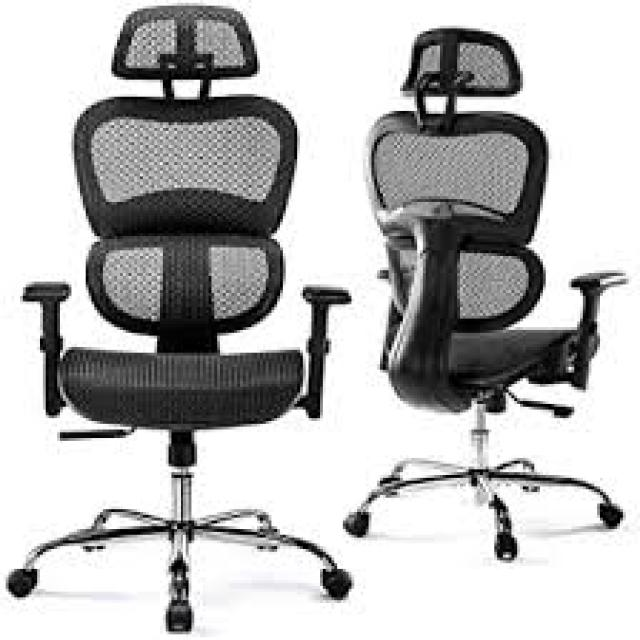chair: (0, 0, 351, 640), (348, 10, 640, 614)
